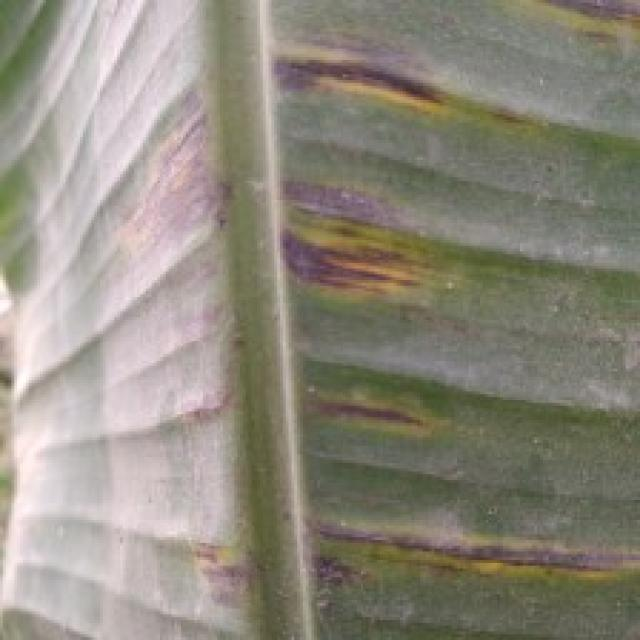Early_leaf_spot: (110, 76, 250, 456), (265, 482, 640, 611), (271, 144, 446, 309), (242, 23, 456, 123), (283, 367, 458, 451), (154, 507, 261, 625), (474, 0, 640, 66)
